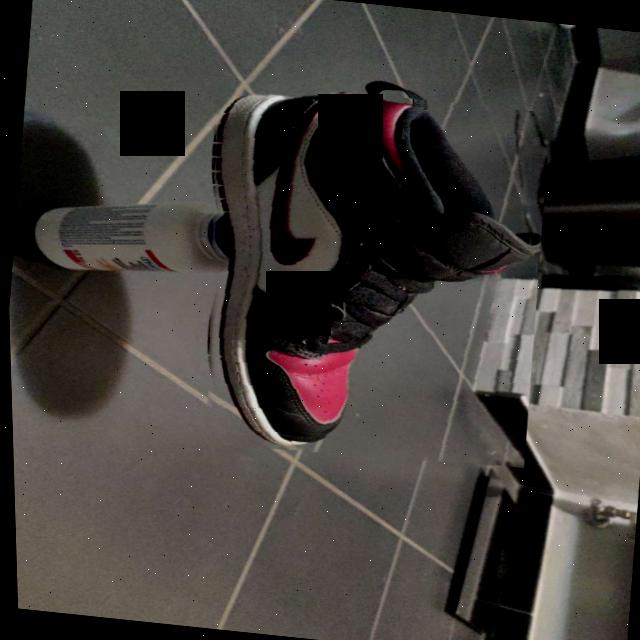shoe: (178, 78, 558, 476)
